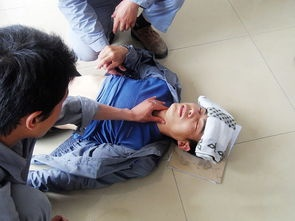fall: (27, 23, 236, 198)
